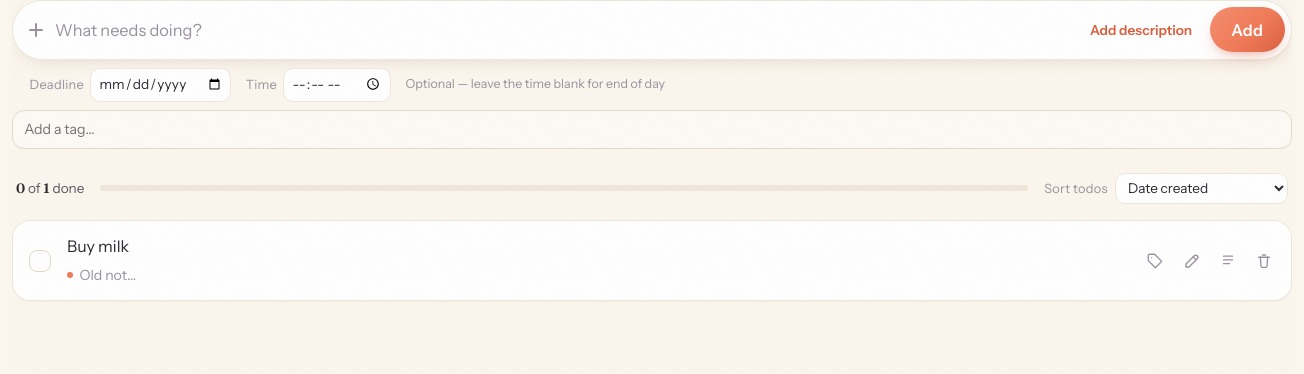
it: TodoApp description edit › trims the description and clears it when emptied
The width and height of the screenshot is (1304, 374).
Click the button named "Edit description for \"Buy milk\"" at {"x": 1228, "y": 261}, box [1211, 244, 1245, 278]
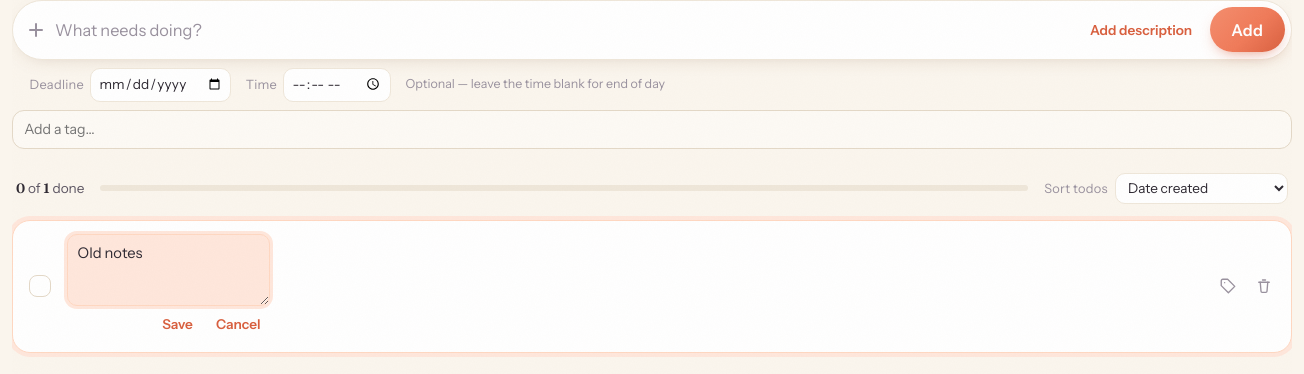
Clear the text box named "Edit todo description" at {"x": 169, "y": 270}, box [67, 234, 270, 306]
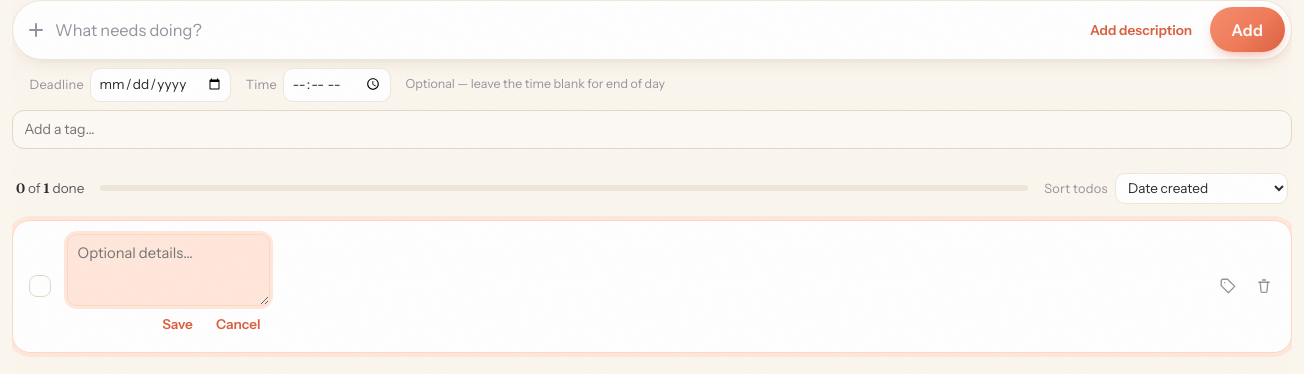
Click the button named "Save description for \"Buy milk\"" at {"x": 177, "y": 325}, box [152, 310, 202, 339]
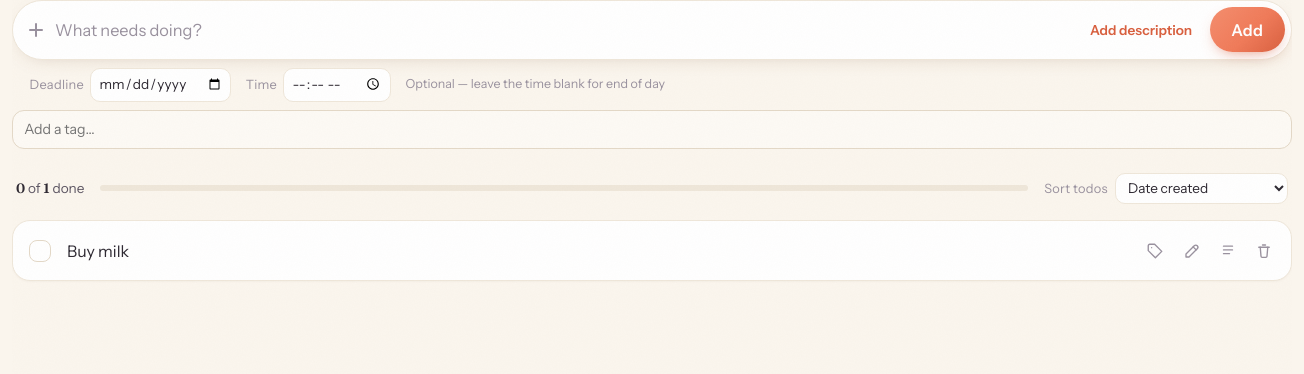
expect the button named "Add description for \"Buy milk\"" is shown: met, box [1211, 234, 1245, 268]
